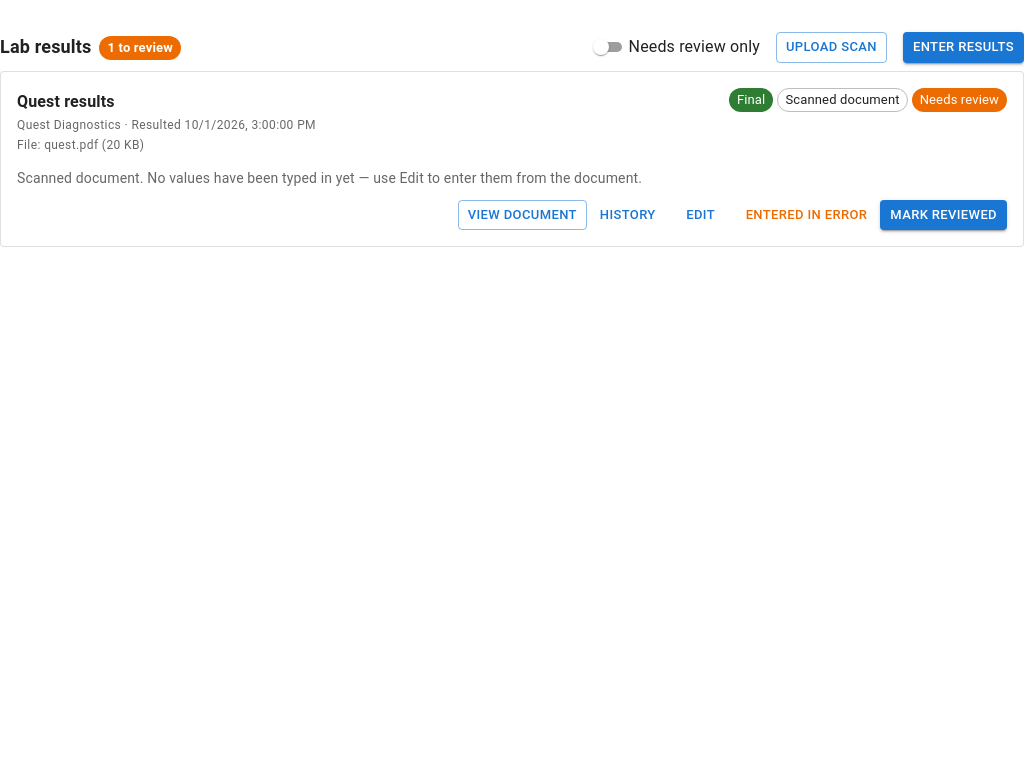
Scenario: history names the upload and each time the document was opened
Step 1. Click the button "History" → {"x": 628, "y": 215}, box [595, 200, 661, 230]
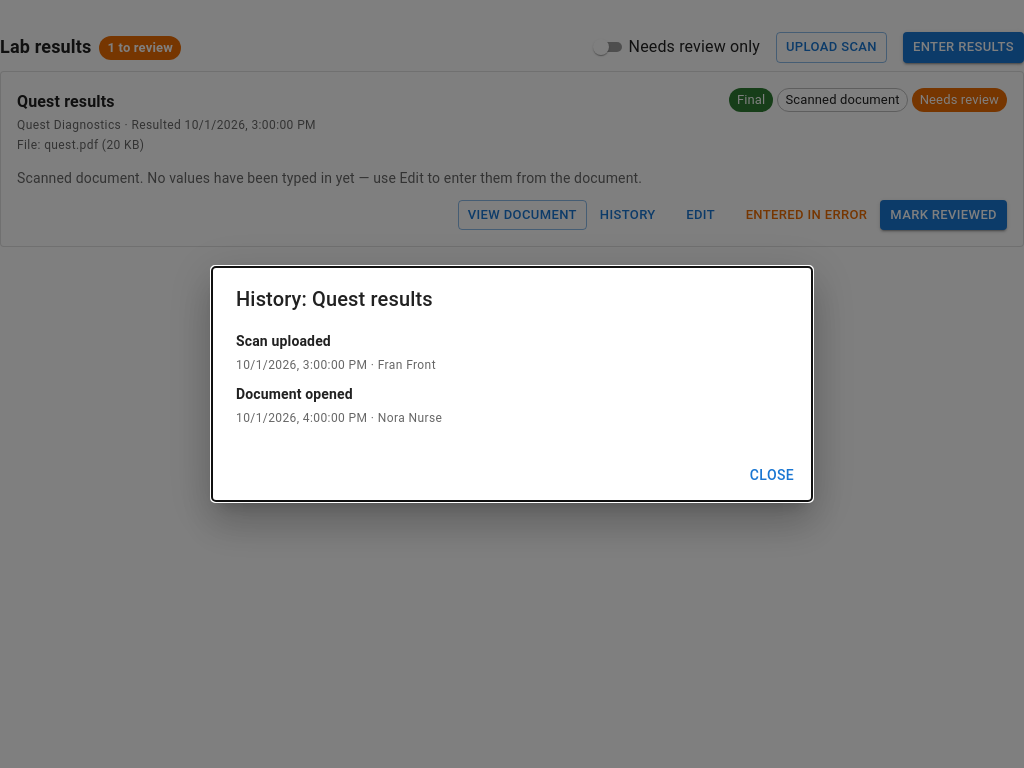
Result: the text "Scan uploaded" is shown at [236, 333, 331, 349]
Result: the text "Document opened" is shown at [236, 386, 353, 402]
Result: the text "10/1/2026, 3:00:00 PM · Fran Front" is shown at [236, 358, 436, 372]
